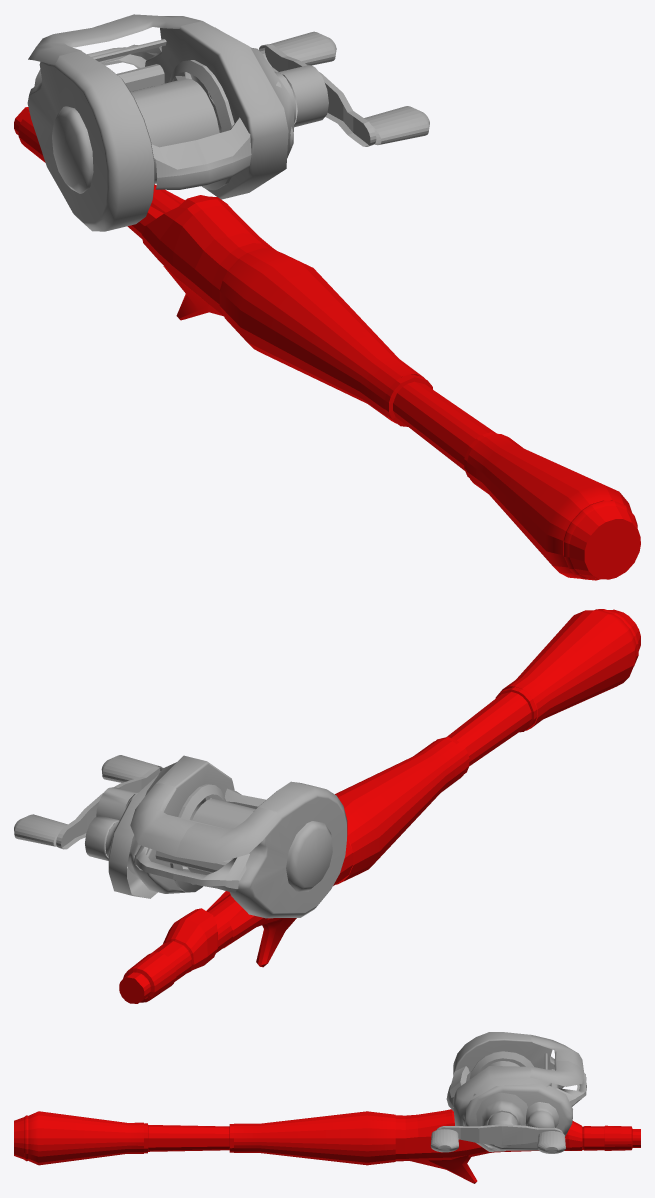
The model's file is Rod3.fbx.
The picture shows the model from 3 angles, top to bottom: view 1: azimuth 30°, elevation 25°; view 2: azimuth 150°, elevation 25°; view 3: azimuth 270°, elevation 25°; orthographic projection. The views are drawn at different scales.
Visible parts, largest first — view 1: polySurface791, polySurface210, polySurface741; view 2: polySurface791, polySurface210, polySurface741; view 3: polySurface791, polySurface210.
Part boxes in pixels (x1,y1,x2,y2): polySurface791: (14, 14, 640, 580); polySurface210: (259, 31, 429, 146); polySurface741: (130, 78, 219, 183); polySurface791: (85, 609, 640, 1003); polySurface210: (14, 755, 163, 849); polySurface741: (188, 799, 255, 874); polySurface791: (14, 1032, 640, 1183); polySurface210: (430, 1124, 565, 1153).
Size of the model in its own units: 3.58 by 2.68 by 11.56.
